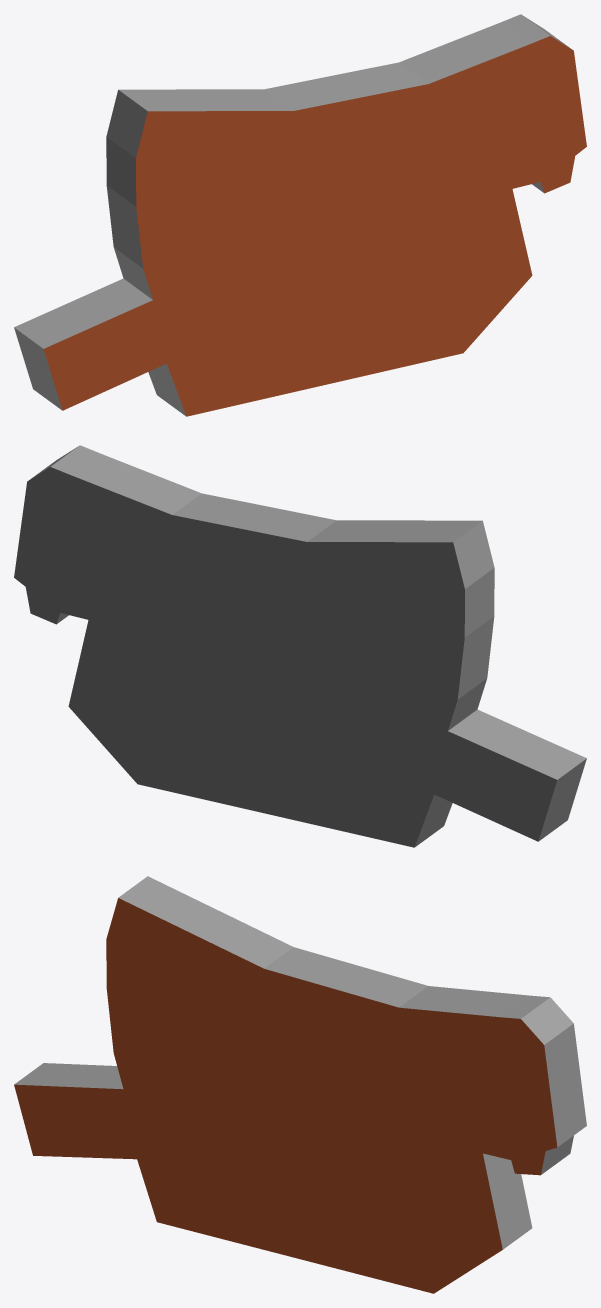
The model's file is construction_6833_assumed_A_Casa_h6m.obj.
The picture shows the model from 3 angles, top to bottom: view 1: azimuth 30°, elevation 25°; view 2: azimuth 150°, elevation 25°; view 3: azimuth 330°, elevation 25°; orthographic projection.
Visible parts, largest first — view 1: construction_6833_assumed_A_Casa; view 2: construction_6833_assumed_A_Casa; view 3: construction_6833_assumed_A_Casa.
Part boxes in pixels (<box>): construction_6833_assumed_A_Casa: <box>14,14,586,416</box>; construction_6833_assumed_A_Casa: <box>14,445,586,847</box>; construction_6833_assumed_A_Casa: <box>14,876,586,1293</box>.
Size of the model in its own units: 63.59 by 35.68 by 6.
